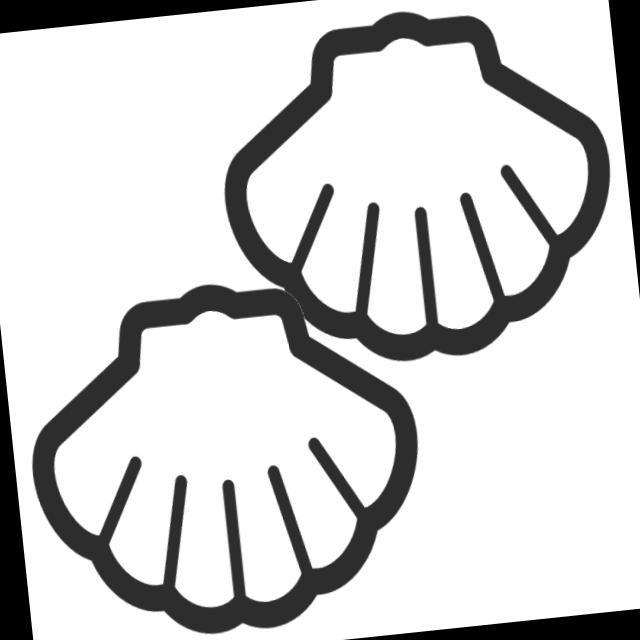shell: (8, 245, 454, 640), (196, 1, 637, 397)
